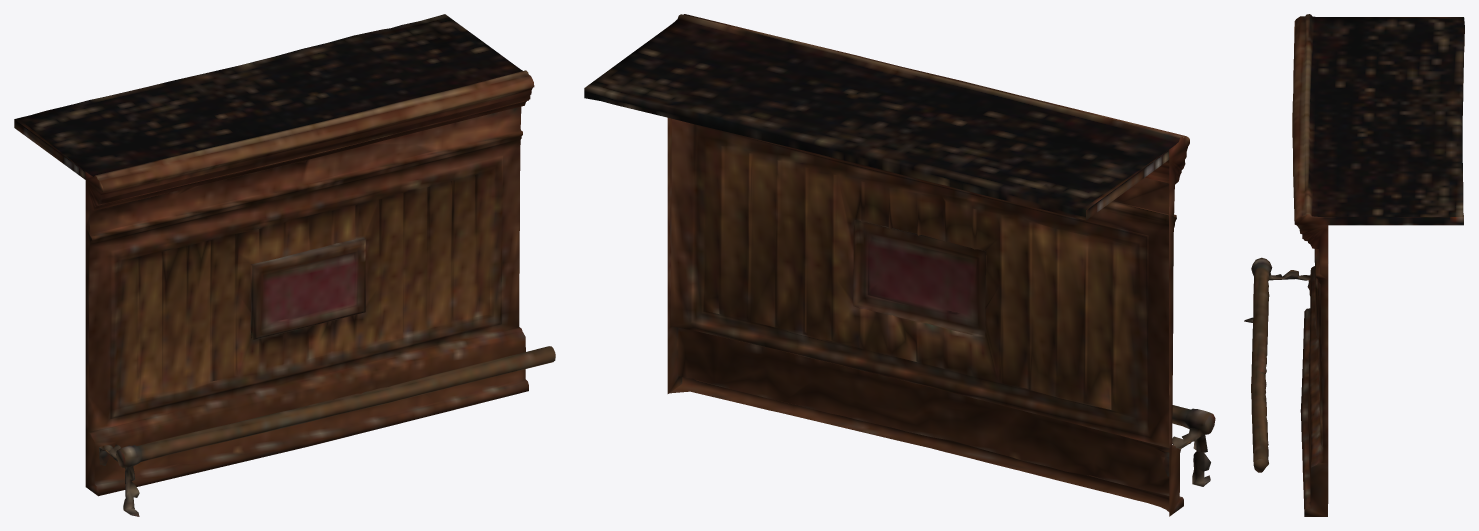
The model's file is BarTable.fbx.
3 views of the same model, side by side, from view 1: azimuth 30°, elevation 25°; view 2: azimuth 150°, elevation 25°; view 3: azimuth 270°, elevation 25° (orthographic). The views are drawn at different scales.
Visible parts, largest first — view 1: ufzueazdw_LOD0_TIER3_001; view 2: ufzueazdw_LOD0_TIER3_001; view 3: ufzueazdw_LOD0_TIER3_001.
Part boxes in pixels (<box>): ufzueazdw_LOD0_TIER3_001: <box>14,14,555,516</box>; ufzueazdw_LOD0_TIER3_001: <box>584,14,1215,516</box>; ufzueazdw_LOD0_TIER3_001: <box>1244,14,1464,516</box>.
Size of the model in its own units: 333 by 235 by 155.
